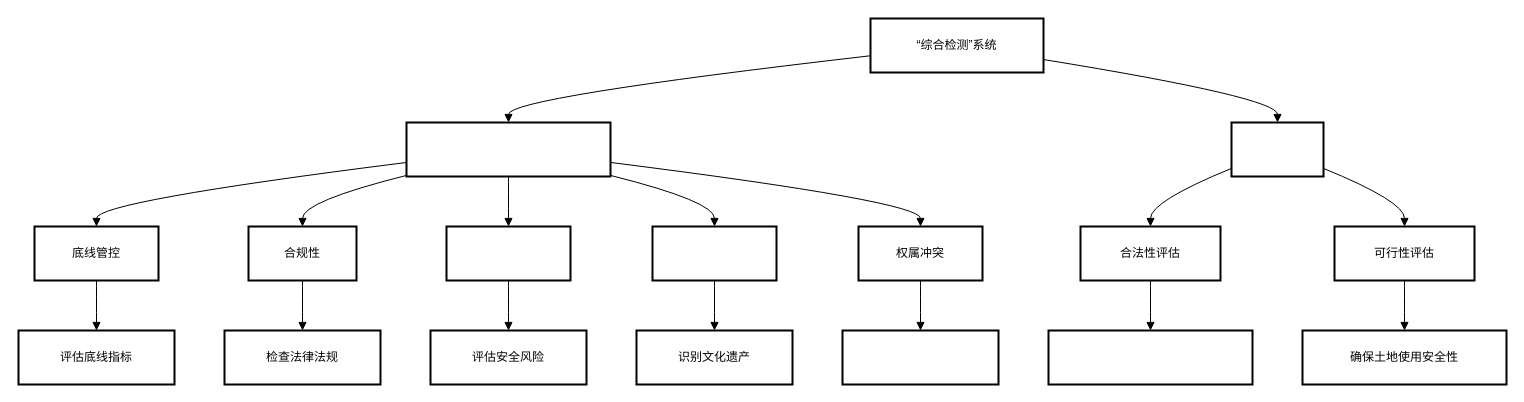
Image size: 1524x402. Some labels were removed from this diagram. The centre of each missing label's shape, as x and y in pixels:
"全方位综合空间分析" belongs at point 508,149.
"分析土地权属" belongs at point 920,357.
"历史文化" belongs at point 714,253.
"安全管控" belongs at point 508,253.
"用户" belongs at point 1277,149.
"确保土地使用合规性" belongs at point 1150,357.
